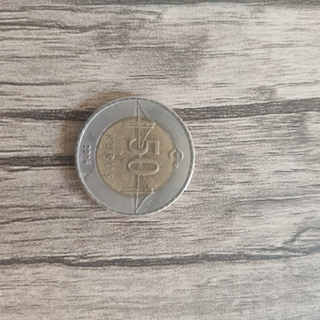50KURUS: (73, 95, 196, 219)
